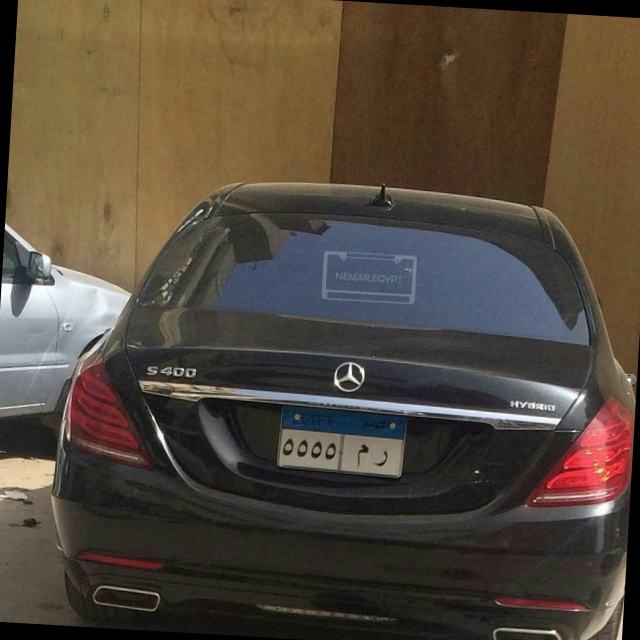License Plate: (272, 402, 412, 483)
